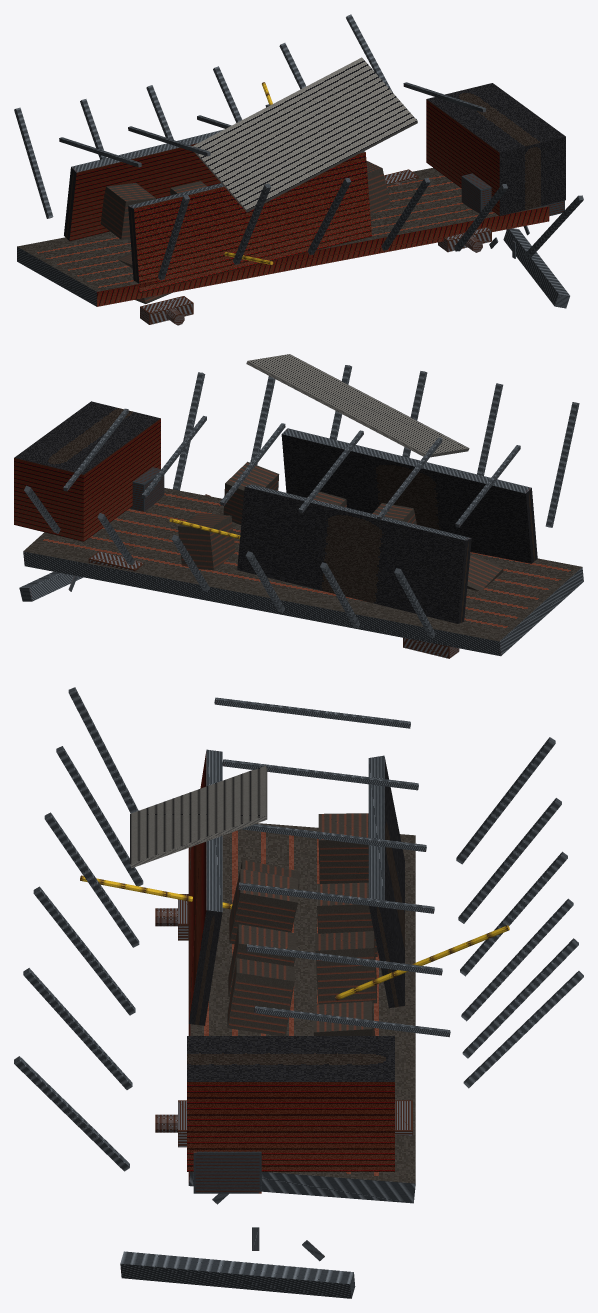
Rendered from prop_bus_wreck_destroyed.glb.
3 views of the same model, one above another, from view 1: azimuth 30°, elevation 25°; view 2: azimuth 150°, elevation 25°; view 3: azimuth 270°, elevation 25° (orthographic). The views are drawn at different scales.
Parts seen in each view (by area): view 1: Prop_Bus_Wreck_Destroyed; view 2: Prop_Bus_Wreck_Destroyed; view 3: Prop_Bus_Wreck_Destroyed.
Boxes of the visible parts, x1=… form: Prop_Bus_Wreck_Destroyed: x1=14, y1=14, x2=583, y2=325; Prop_Bus_Wreck_Destroyed: x1=14, y1=354, x2=583, y2=658; Prop_Bus_Wreck_Destroyed: x1=14, y1=687, x2=583, y2=1298.
Size of the model in its own units: 8.69 by 4.35 by 6.3.
Materials: 1 (1 with a texture image).
